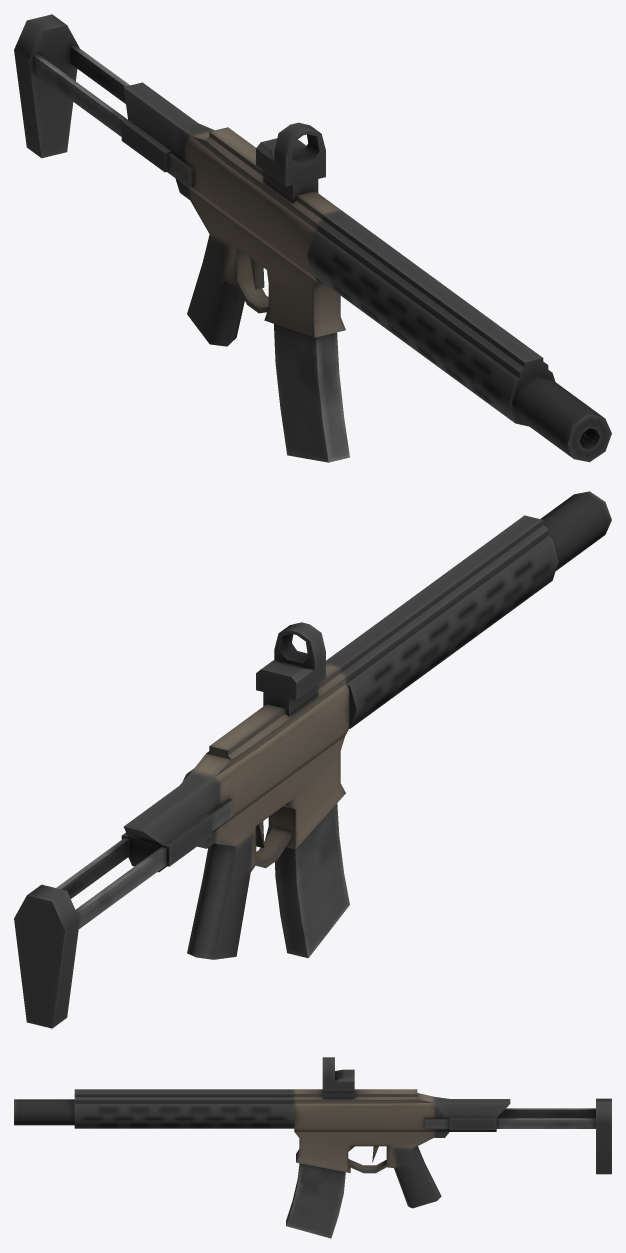
Rendered from HoneyBadger.fbx.
3 renders of one model, top to bottom at view 1: azimuth 30°, elevation 25°; view 2: azimuth 150°, elevation 25°; view 3: azimuth 270°, elevation 25°, orthographic. The views are drawn at different scales.
Parts seen in each view (by area): view 1: HoneyBadger; view 2: HoneyBadger; view 3: HoneyBadger.
Boxes of the visible parts, x1,y1,x2,y2 form: HoneyBadger: (14, 14, 611, 462); HoneyBadger: (14, 491, 611, 1028); HoneyBadger: (14, 1057, 611, 1238).
Size of the model in its own units: 4.6 by 28.08 by 85.74.
1 material, 1 textured.
